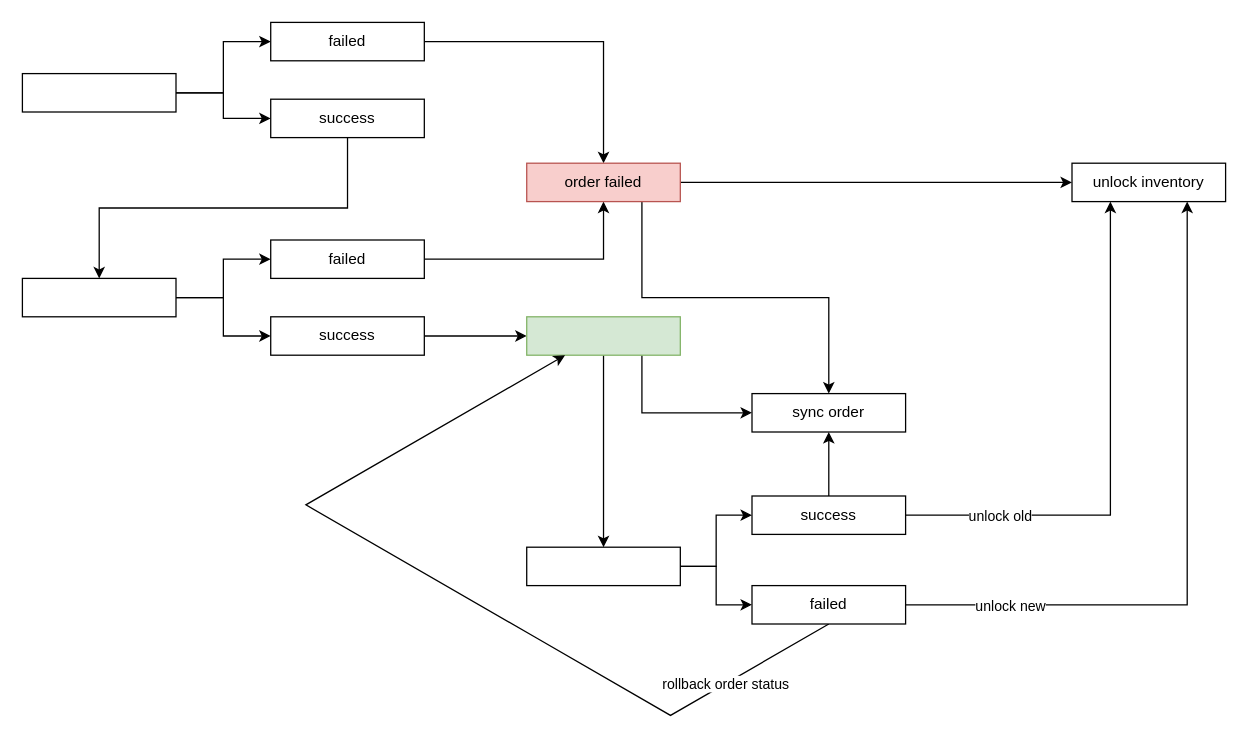
Image size: 1248x749. Some labels were removed from this diagram. The box of each missing label's shape, as (x1, y1, x2, y2) in pixels:
booking: (21, 277, 176, 317)
exchange: (525, 546, 680, 586)
order success: (525, 316, 680, 355)
payment: (21, 72, 176, 112)
